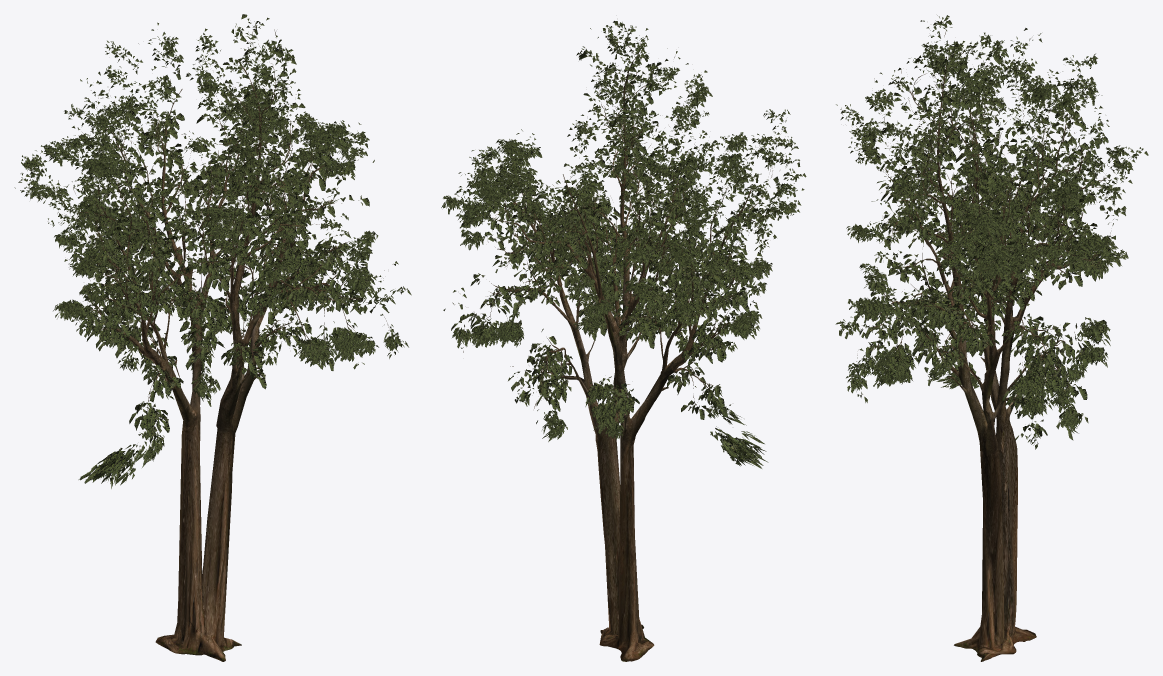
The model's file is street_tree_tall.glb.
The picture shows the model from 3 angles, left to right: view 1: azimuth 30°, elevation 25°; view 2: azimuth 150°, elevation 25°; view 3: azimuth 270°, elevation 25°; orthographic projection. The views are drawn at different scales.
Parts seen in each view (by area): view 1: jacaranda_tree_LOD0; view 2: jacaranda_tree_LOD0; view 3: jacaranda_tree_LOD0.
Part boxes in pixels (bbox=[...]): jacaranda_tree_LOD0: bbox=[14, 14, 411, 661]; jacaranda_tree_LOD0: bbox=[441, 21, 806, 661]; jacaranda_tree_LOD0: bbox=[835, 15, 1148, 661].
Size of the model in its own units: 14.5 by 25.32 by 11.43.
3 materials, 3 textured.
